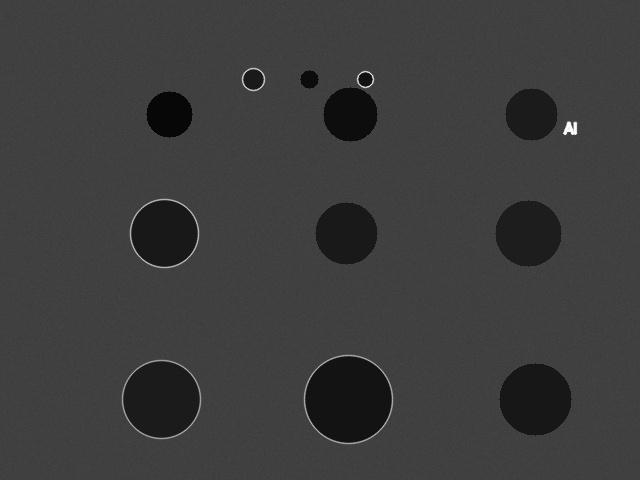hole: (304, 355, 392, 443), (122, 360, 200, 438), (499, 363, 571, 435), (130, 199, 198, 267), (495, 200, 561, 266), (315, 202, 377, 264), (323, 87, 377, 141), (505, 88, 557, 140), (146, 91, 192, 137), (242, 68, 264, 90), (300, 70, 318, 88), (357, 71, 373, 87)
